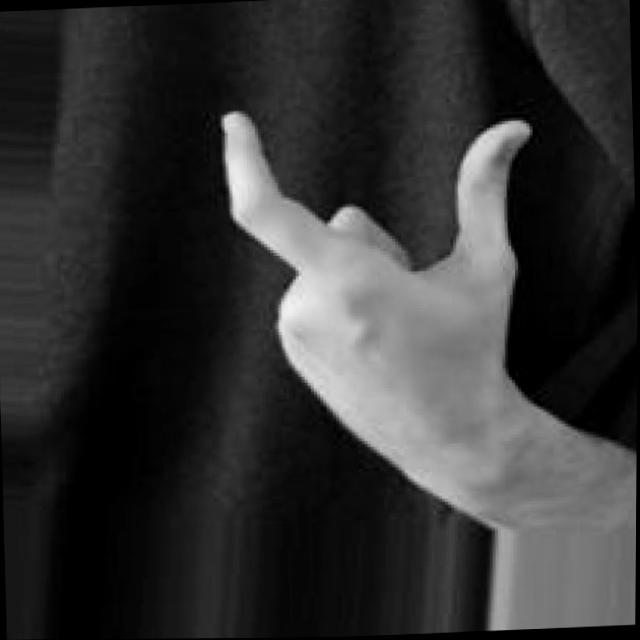U: (207, 90, 551, 506)
